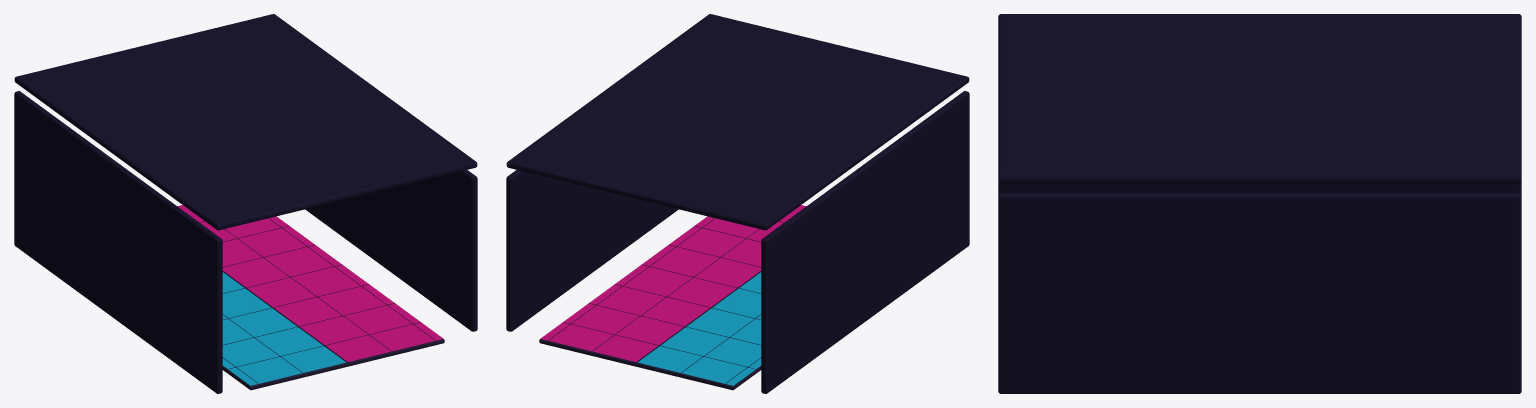
File: split_glow_arcade_shell.glb
3 renders of one model, left to right at view 1: azimuth 30°, elevation 25°; view 2: azimuth 150°, elevation 25°; view 3: azimuth 270°, elevation 25°, orthographic. The views are drawn at different scales.
Visible parts, largest first — view 1: Dark Ceiling, Left Dark Wall, Right Pink Floor Reflection, Right Dark Wall, Left Cyan Floor Reflection, Wet Reflective Tile Floor; view 2: Dark Ceiling, Left Dark Wall, Right Pink Floor Reflection, Right Dark Wall, Left Cyan Floor Reflection, Wet Reflective Tile Floor; view 3: Right Dark Wall, Dark Ceiling, Left Dark Wall.
Part boxes in pixels (x1,y1,x2,y2): Dark Ceiling: [14, 14, 477, 230]; Left Dark Wall: [14, 91, 222, 393]; Right Pink Floor Reflection: [177, 205, 443, 361]; Right Dark Wall: [305, 170, 477, 331]; Left Cyan Floor Reflection: [222, 272, 345, 385]; Wet Reflective Tile Floor: [222, 271, 444, 390]; Dark Ceiling: [506, 14, 969, 230]; Left Dark Wall: [761, 91, 969, 393]; Right Pink Floor Reflection: [540, 205, 806, 361]; Right Dark Wall: [506, 170, 678, 331]; Left Cyan Floor Reflection: [638, 272, 761, 385]; Wet Reflective Tile Floor: [539, 271, 761, 390]; Right Dark Wall: [998, 193, 1521, 393]; Dark Ceiling: [998, 14, 1521, 183]; Left Dark Wall: [998, 182, 1521, 194].
Size of the model in its own units: 13.42 by 8.52 by 18.12.
